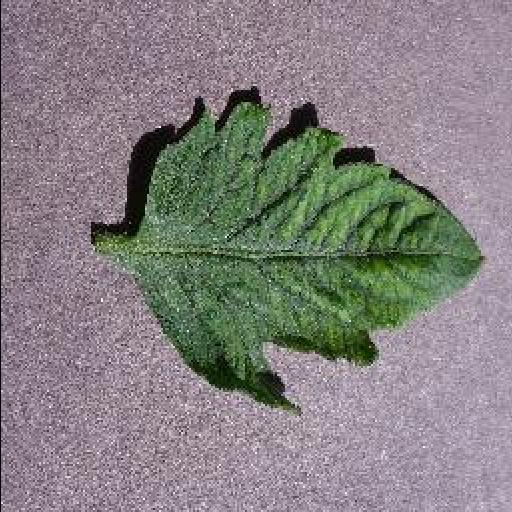Mosaic Virus: (122, 96, 486, 416)
